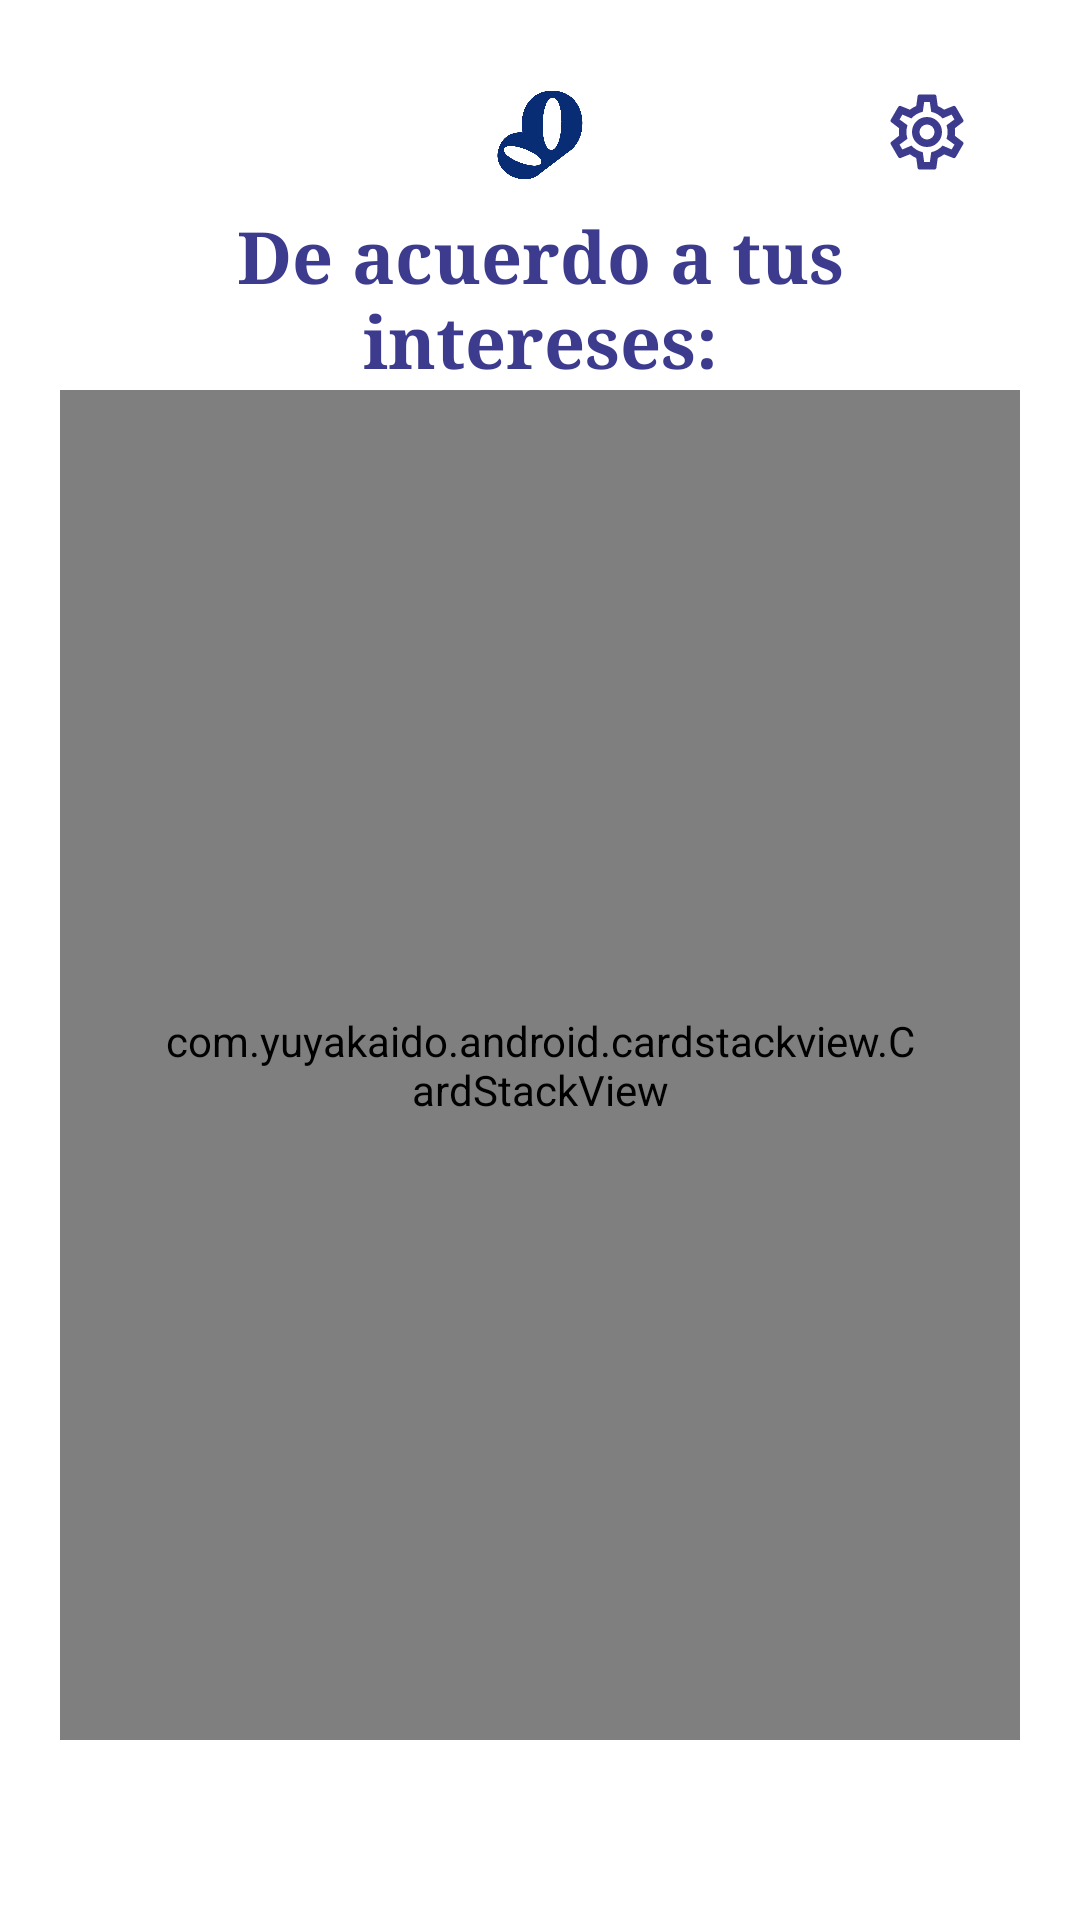

Named icons in this screenshot (1080px x 1920px) and their centers, (x=x, y=y):
conf: (x=927, y=132)
